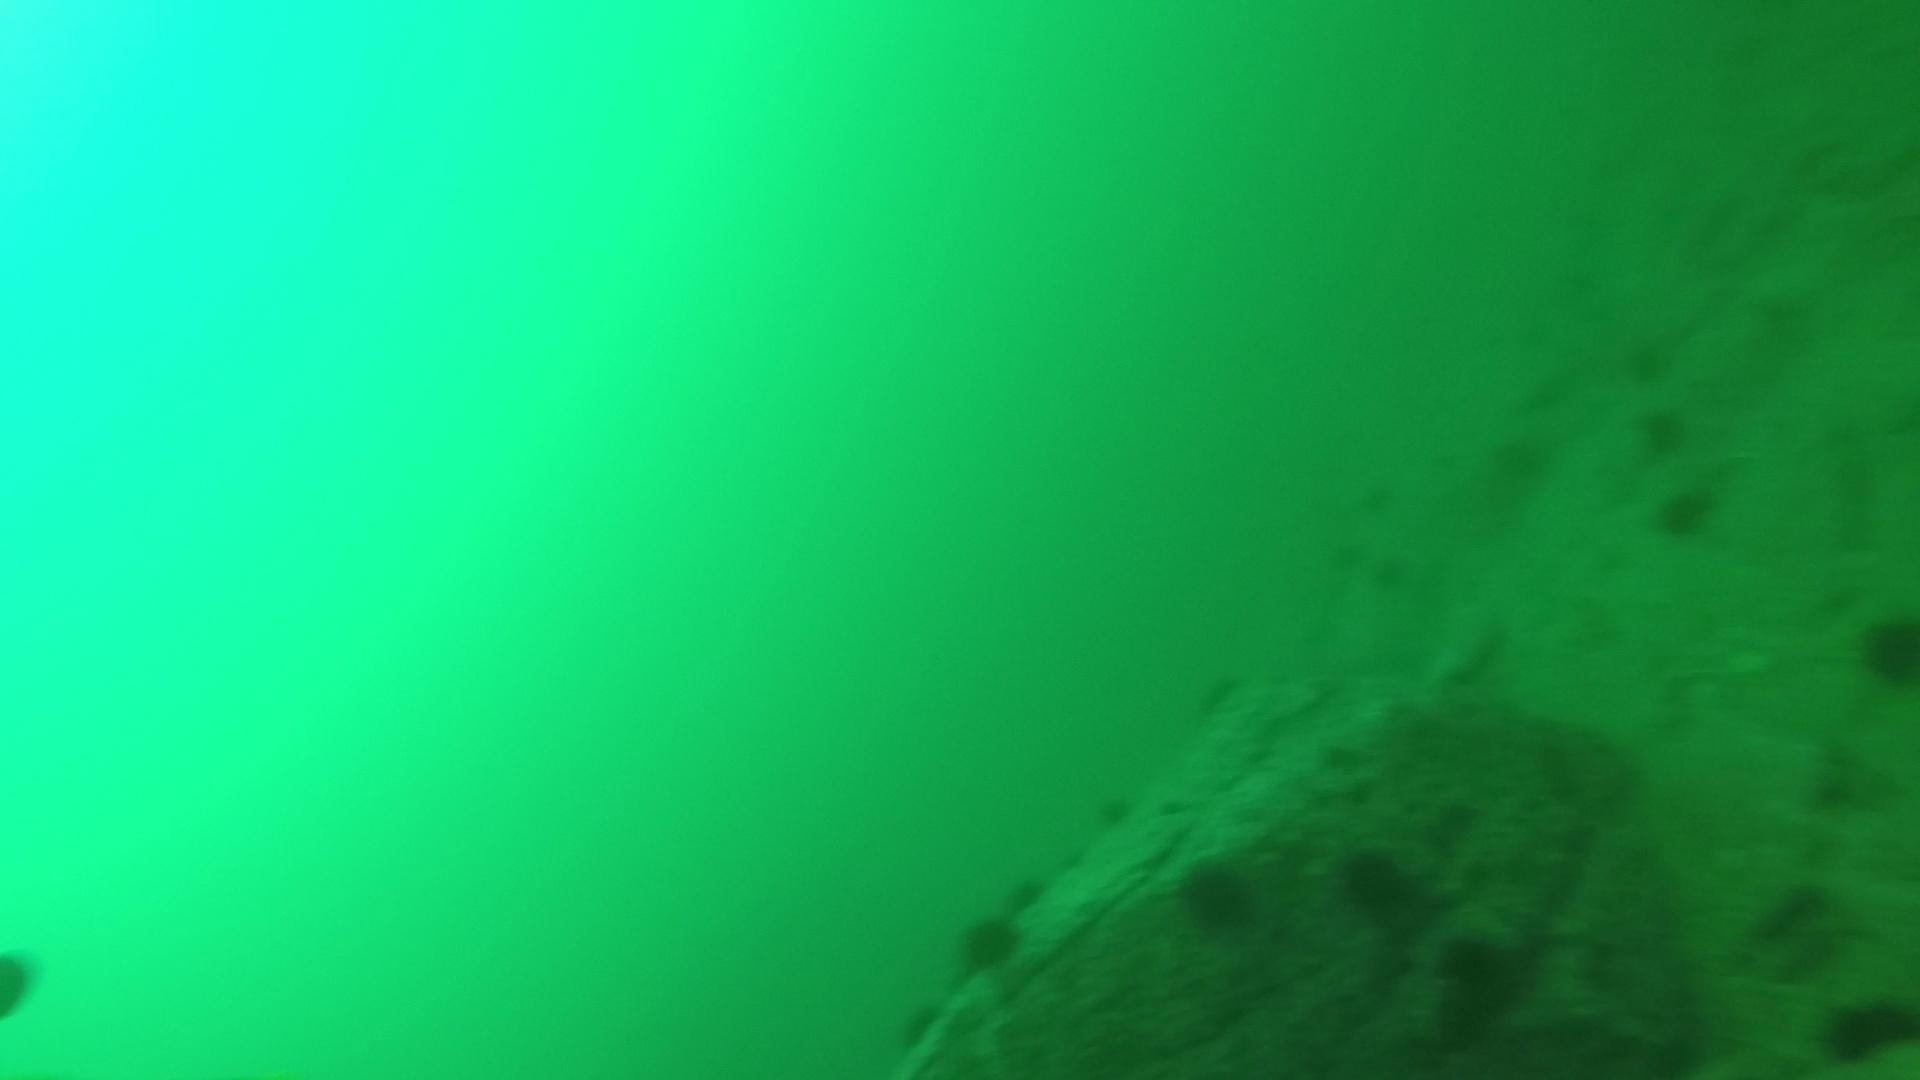echinus: (1817, 988, 1917, 1067), (1174, 853, 1262, 935), (1333, 841, 1423, 922), (1854, 604, 1920, 692), (951, 907, 1027, 976), (1480, 426, 1555, 493), (1651, 481, 1720, 541), (1633, 401, 1693, 458), (1619, 332, 1676, 386), (1092, 783, 1149, 829), (994, 870, 1050, 916), (1197, 665, 1253, 711), (1370, 547, 1415, 587)
